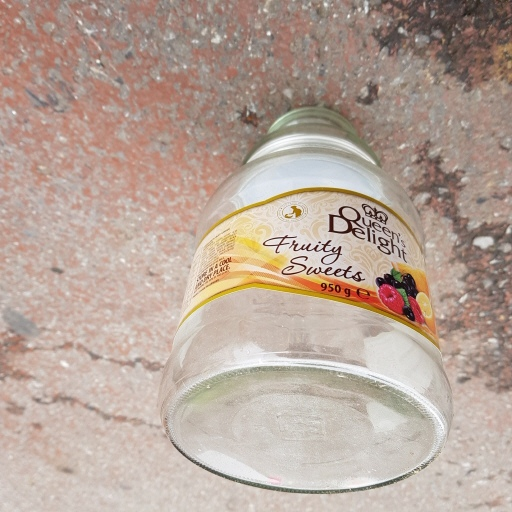Glass_5: (157, 106, 453, 491)
